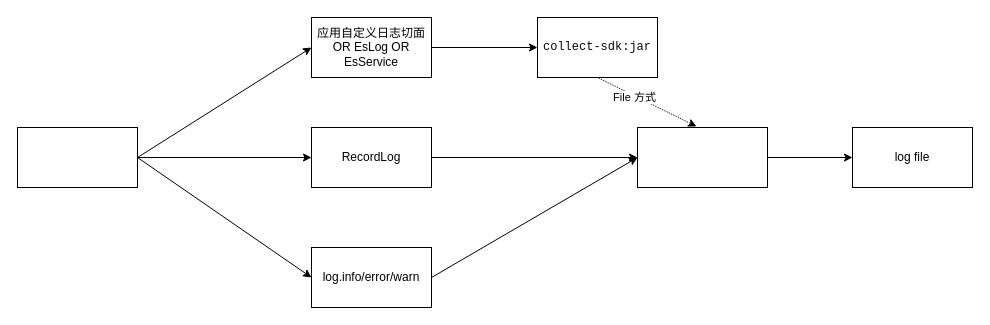
This 990x325 diagram has some shape labels left out. The shapes that lost their labels are listed below. From the top down, each one's centre as x and y in pixels, then its label:
At pixel 77 157: "APP".
At pixel 702 157: "pkfare-logger:jar".
